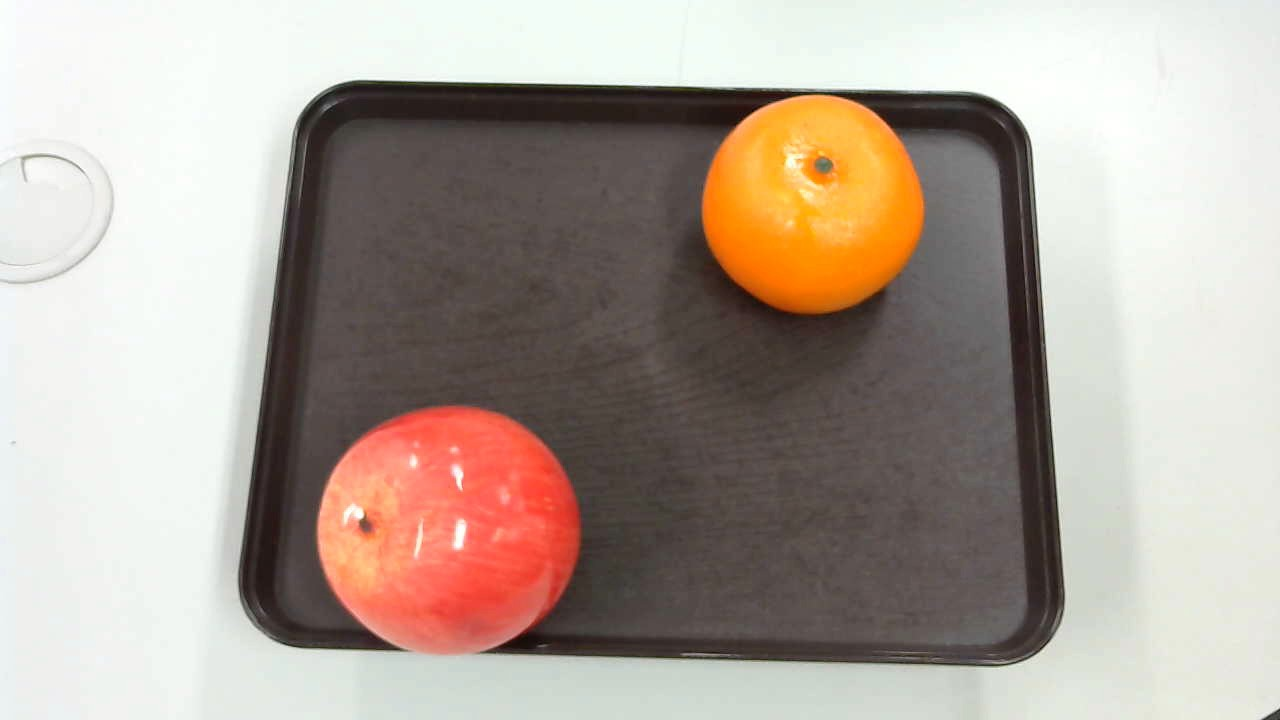orange: (702, 91, 923, 318)
red apple: (312, 405, 585, 661)
